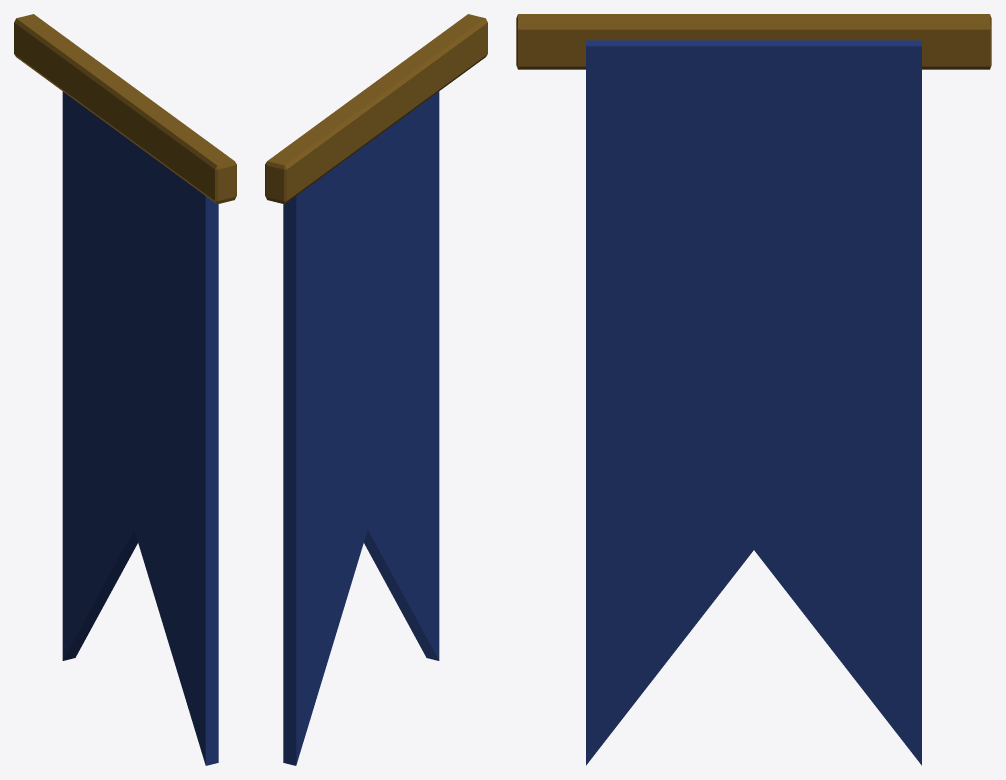
The model's file is Textured Banner.fbx.
The picture shows the model from 3 angles, left to right: view 1: azimuth 30°, elevation 25°; view 2: azimuth 150°, elevation 25°; view 3: azimuth 270°, elevation 25°; orthographic projection. The views are drawn at different scales.
Parts seen in each view (by area): view 1: Flag_2, Flag_2_Base; view 2: Flag_2, Flag_2_Base; view 3: Flag_2, Flag_2_Base.
Part boxes in pixels (left/top/right/bottom): Flag_2: left=62, top=91, right=218, bottom=765; Flag_2_Base: left=14, top=14, right=236, bottom=204; Flag_2: left=283, top=91, right=439, bottom=765; Flag_2_Base: left=265, top=14, right=487, bottom=204; Flag_2: left=586, top=40, right=921, bottom=765; Flag_2_Base: left=516, top=14, right=991, bottom=69.
Bounding box in the file's own units: 0.0787 × 1.45 × 0.8504.
